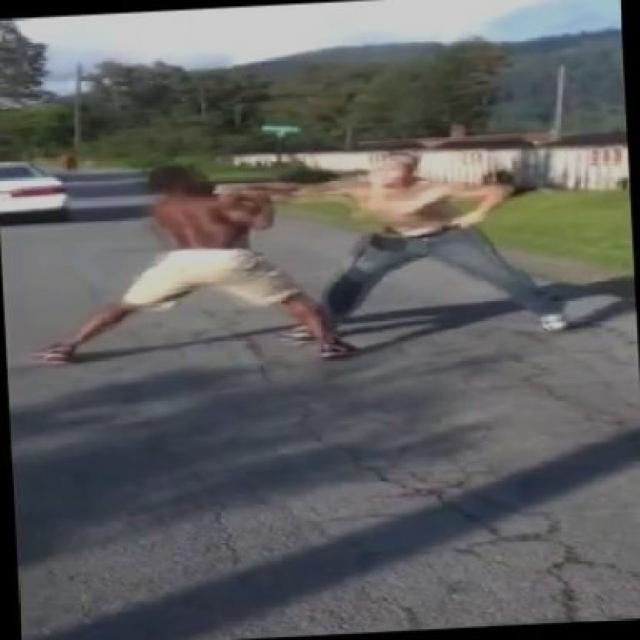fight: (41, 146, 576, 359)
